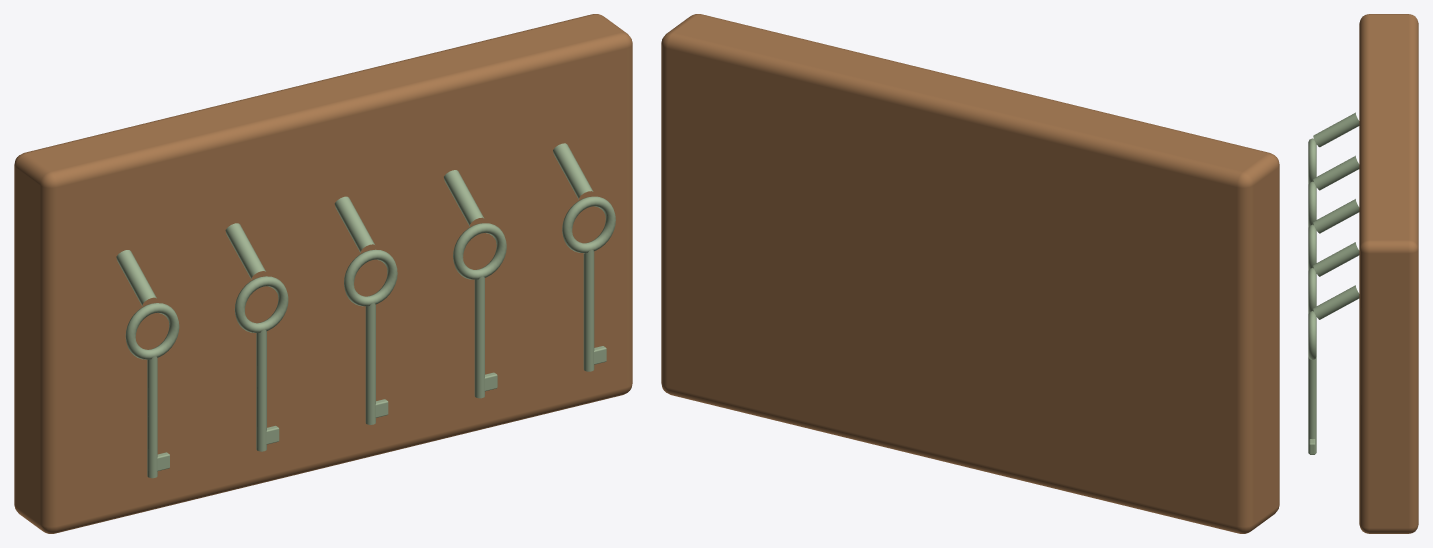
File: desert-caravanserai-and-bazaar-lodging-key-rack-1a57ac9b__30488.glb
The picture shows the model from 3 angles, left to right: view 1: azimuth 30°, elevation 25°; view 2: azimuth 150°, elevation 25°; view 3: azimuth 270°, elevation 25°; orthographic projection. The views are drawn at different scales.
Visible parts, largest first — view 1: lodging-key-rack; view 2: lodging-key-rack; view 3: lodging-key-rack.
Part boxes in pixels (box(x1,y1,x2,y2)): lodging-key-rack: box(14, 14, 632, 533); lodging-key-rack: box(661, 14, 1279, 533); lodging-key-rack: box(1308, 14, 1418, 533).
Bounding box in the file's own units: 0.65 × 0.38 × 0.13.
